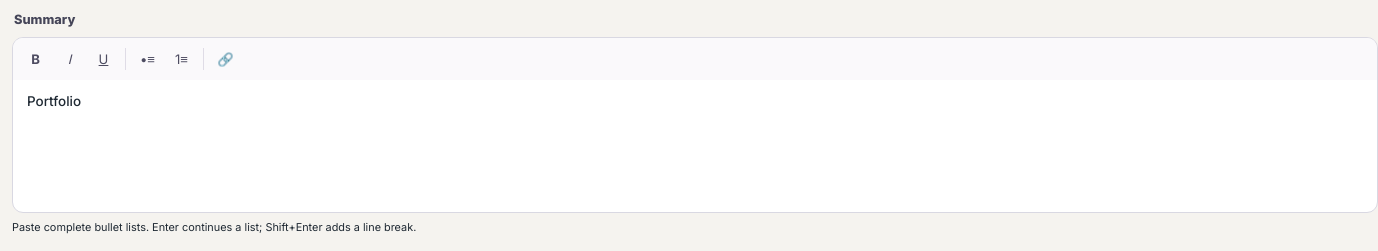
Test: RichTextEditor › opens hyperlink editing inside the toolbar rather than showing a permanent URL field
The image size is (1378, 251).
Click the button named "Insert or edit hyperlink". click: (226,59)
box: x1=210 y1=44 x2=241 y2=74
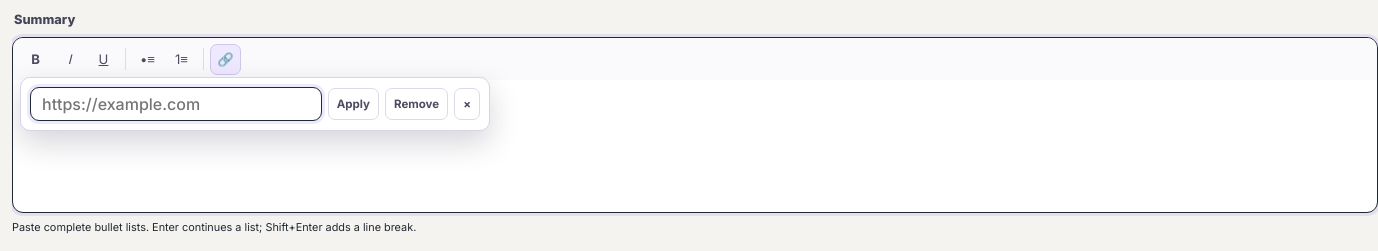
Result: the element named "Edit hyperlink" is shown at x1=20 y1=77 x2=490 y2=131
